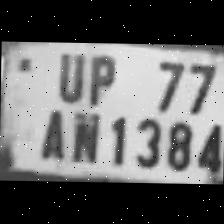1: (101, 108, 130, 167)
3: (128, 110, 161, 168)
4: (193, 116, 222, 173)
7: (181, 54, 216, 114), (148, 54, 183, 110)
8: (160, 112, 193, 170)
A: (32, 102, 69, 160)
N: (64, 104, 102, 161)
P: (81, 48, 118, 106)
U: (51, 46, 86, 102)
